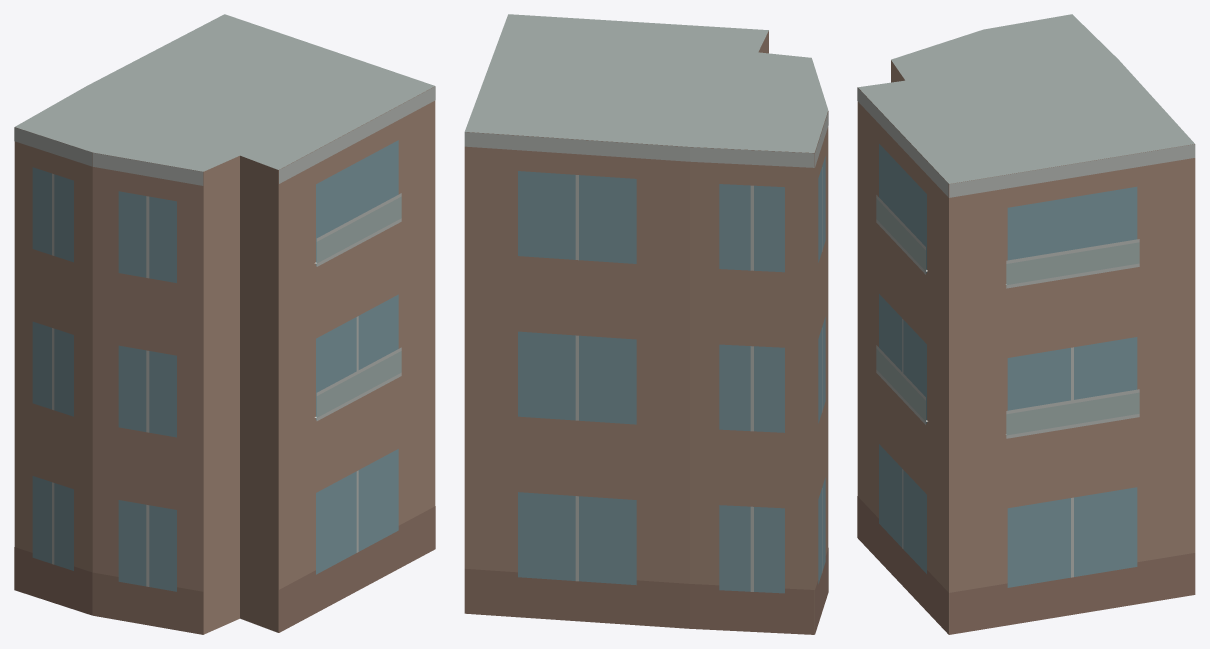
The model's file is survey-upis-32474334.glb.
3 renders of one model, left to right at view 1: azimuth 30°, elevation 25°; view 2: azimuth 150°, elevation 25°; view 3: azimuth 270°, elevation 25°, orthographic. The views are drawn at different scales.
Parts seen in each view (by area): view 1: survey-upis-32474334.tmp; view 2: survey-upis-32474334.tmp; view 3: survey-upis-32474334.tmp.
Part boxes in pixels (bbox=[...]): survey-upis-32474334.tmp: bbox=[14, 14, 435, 634]; survey-upis-32474334.tmp: bbox=[464, 14, 828, 634]; survey-upis-32474334.tmp: bbox=[857, 14, 1195, 634].
Bounding box in the file's own units: 6.4 × 7.9 × 5.37.
